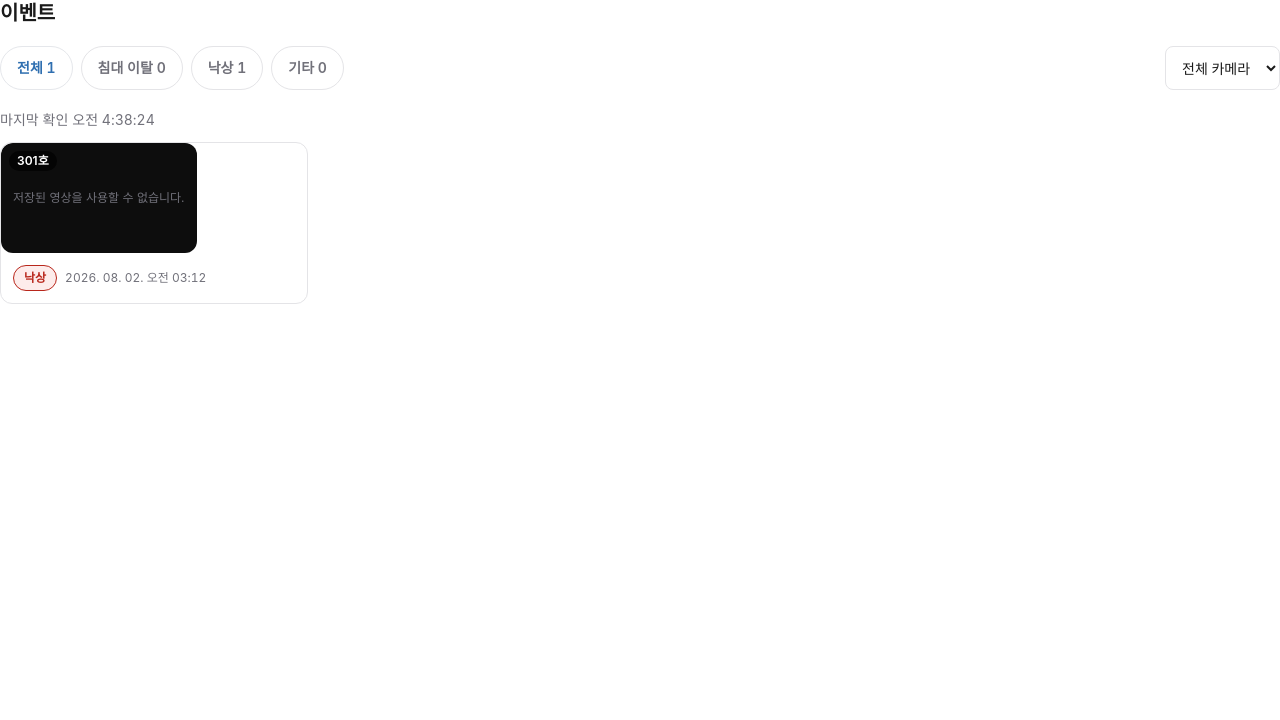
EventsPage bounded failure states › shows the bounded unavailable frame when stored media is 503 and never offers a retired view
Click the button "301호 저장된 영상을 사용할 수 없습니다. 낙상 2026. 08. 02. 오전 03:12" at (154, 223), box x1=0 y1=142 x2=308 y2=304
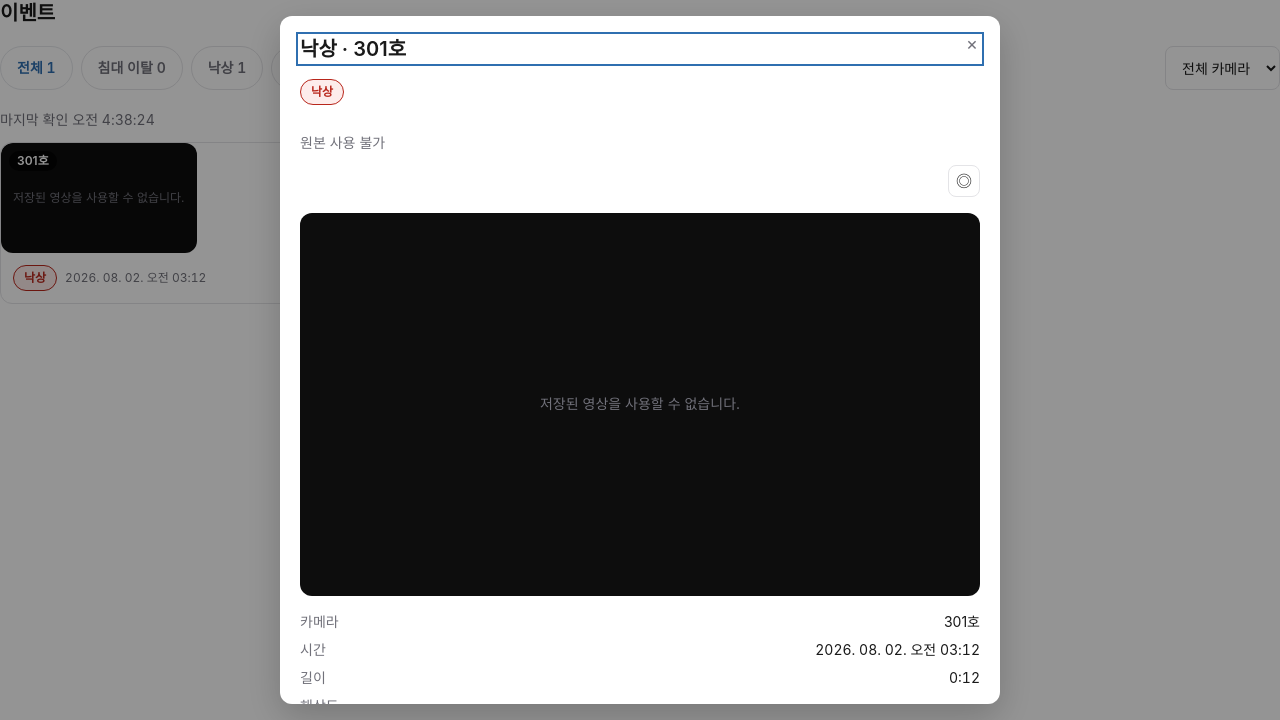
Now the text "저장된 영상을 사용할 수 없습니다." is shown, box x1=540 y1=395 x2=740 y2=412
Now the message "원본 사용 불가" is shown, box x1=300 y1=134 x2=385 y2=151
